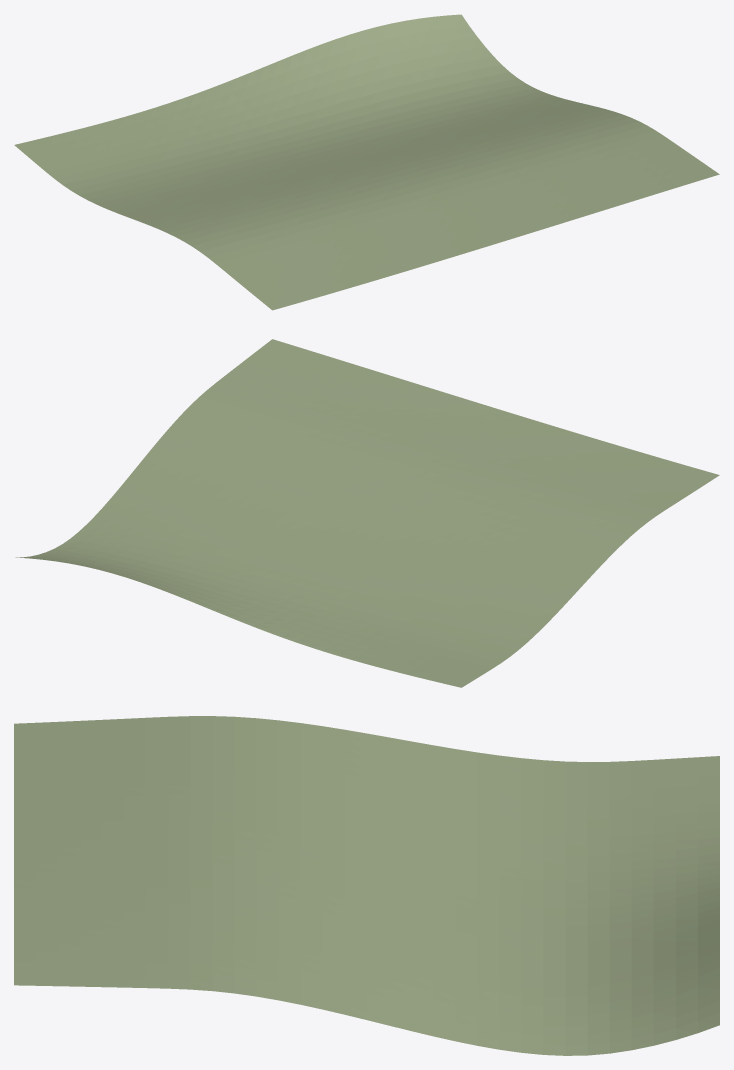
The model's file is canyon-4-4.glb.
3 renders of one model, top to bottom at view 1: azimuth 30°, elevation 25°; view 2: azimuth 150°, elevation 25°; view 3: azimuth 270°, elevation 25°, orthographic. The views are drawn at different scales.
Parts seen in each view (by area): view 1: canyon-4-4; view 2: canyon-4-4; view 3: canyon-4-4.
Part boxes in pixels (box(x1,y1,x2,y2)): canyon-4-4: box(14, 14, 719, 310); canyon-4-4: box(15, 339, 719, 687); canyon-4-4: box(14, 716, 719, 1055).
Bounding box in the file's own units: 128 × 15.07 × 128.
